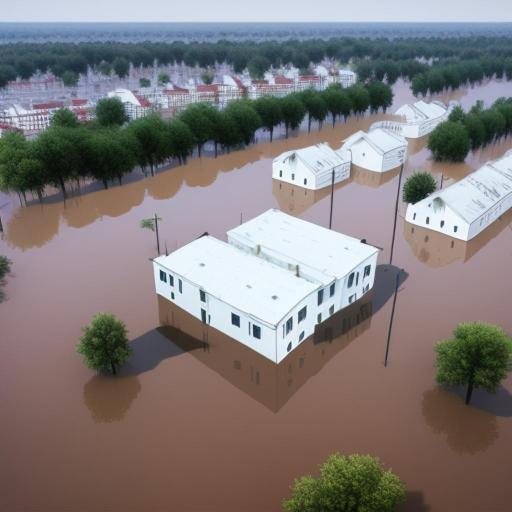flood: (0, 112, 512, 512), (402, 135, 512, 187), (426, 80, 512, 110), (390, 80, 417, 112)
house: (149, 209, 377, 369), (401, 154, 512, 260), (274, 144, 351, 195), (346, 127, 406, 187), (12, 107, 50, 129), (192, 81, 218, 106)
